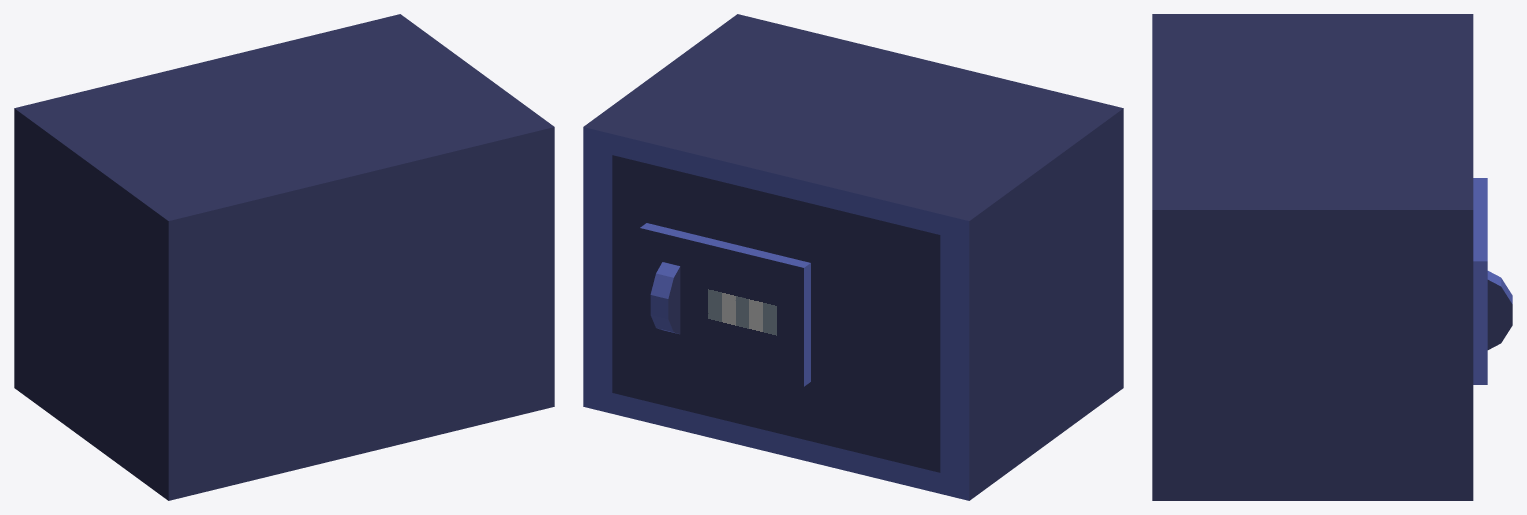
The model's file is safe.gltf.
The picture shows the model from 3 angles, left to right: view 1: azimuth 30°, elevation 25°; view 2: azimuth 150°, elevation 25°; view 3: azimuth 270°, elevation 25°; orthographic projection. The views are drawn at different scales.
Parts seen in each view (by area): view 1: Base; view 2: Base, DoorBase, DoorDingle; view 3: Base, DoorBase, DoorDingle.
Boxes of the visible parts, box(x1,y1,x2,y2) form: Base: box(14, 14, 554, 500); Base: box(583, 14, 1123, 500); DoorBase: box(612, 155, 940, 472); DoorDingle: box(650, 262, 680, 334); Base: box(1152, 14, 1473, 500); DoorBase: box(1473, 178, 1487, 384); DoorDingle: box(1487, 271, 1512, 349).
Size of the model in its own units: 0.4062 by 0.2812 by 0.3156.
1 material, 1 textured.
